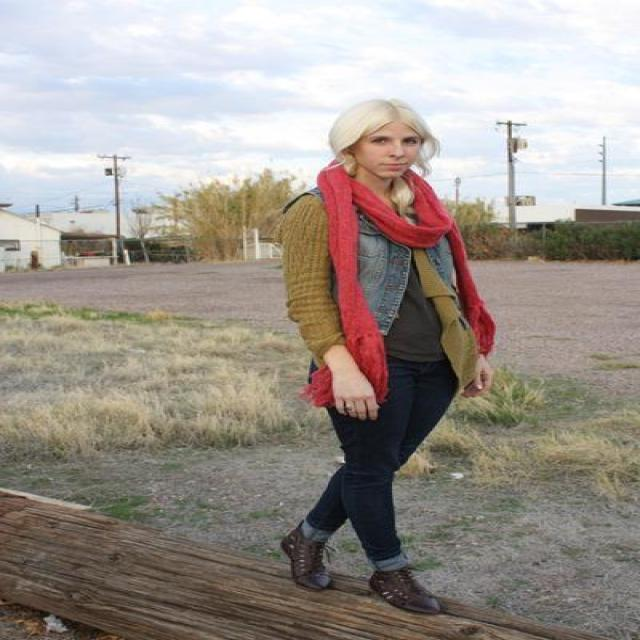jacket: (277, 192, 478, 370), (352, 200, 454, 319)
pants: (306, 347, 458, 562)
shirt: (378, 273, 454, 361)
shoe: (280, 526, 438, 575)
